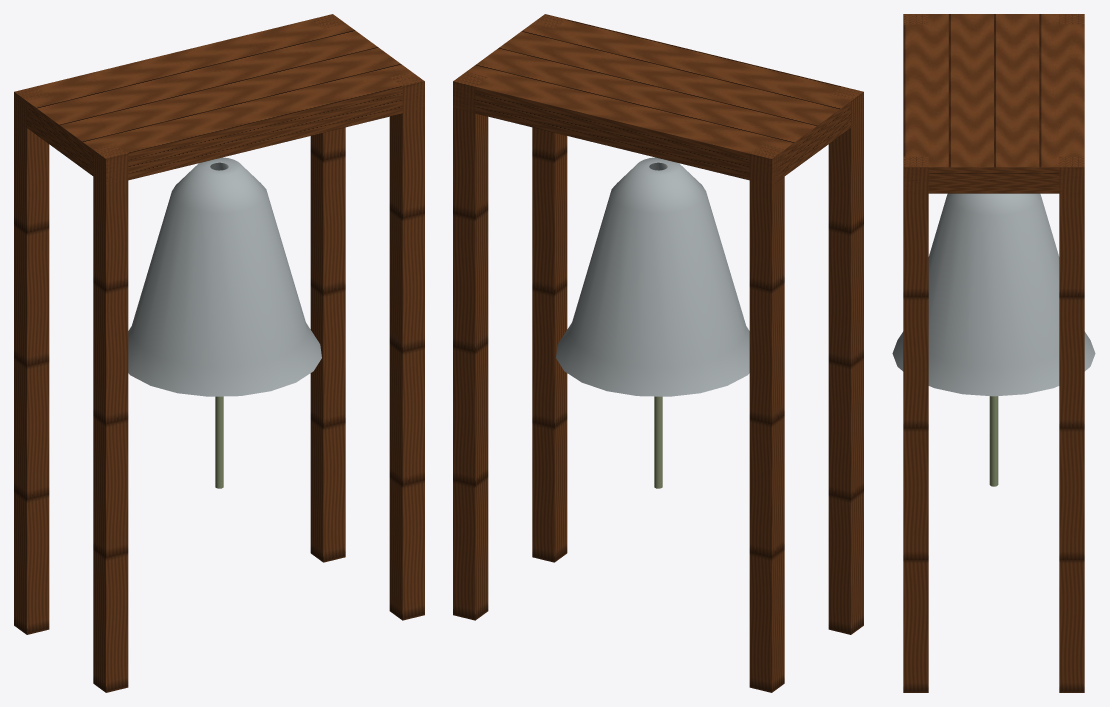
Rendered from prehistoric-survivor-settlement-signal-gong-frame-3ef6c29b__23223.glb.
3 renders of one model, left to right at view 1: azimuth 30°, elevation 25°; view 2: azimuth 150°, elevation 25°; view 3: azimuth 270°, elevation 25°, orthographic.
Visible parts, largest first — view 1: signal-gong-frame; view 2: signal-gong-frame; view 3: signal-gong-frame.
Part boxes in pixels (x1,y1,x2,y2): signal-gong-frame: (14, 14, 424, 692); signal-gong-frame: (453, 14, 863, 692); signal-gong-frame: (892, 14, 1095, 692).
Bounding box in the file's own units: 0.9999 × 1.6 × 0.56.
3 materials, 1 textured.
